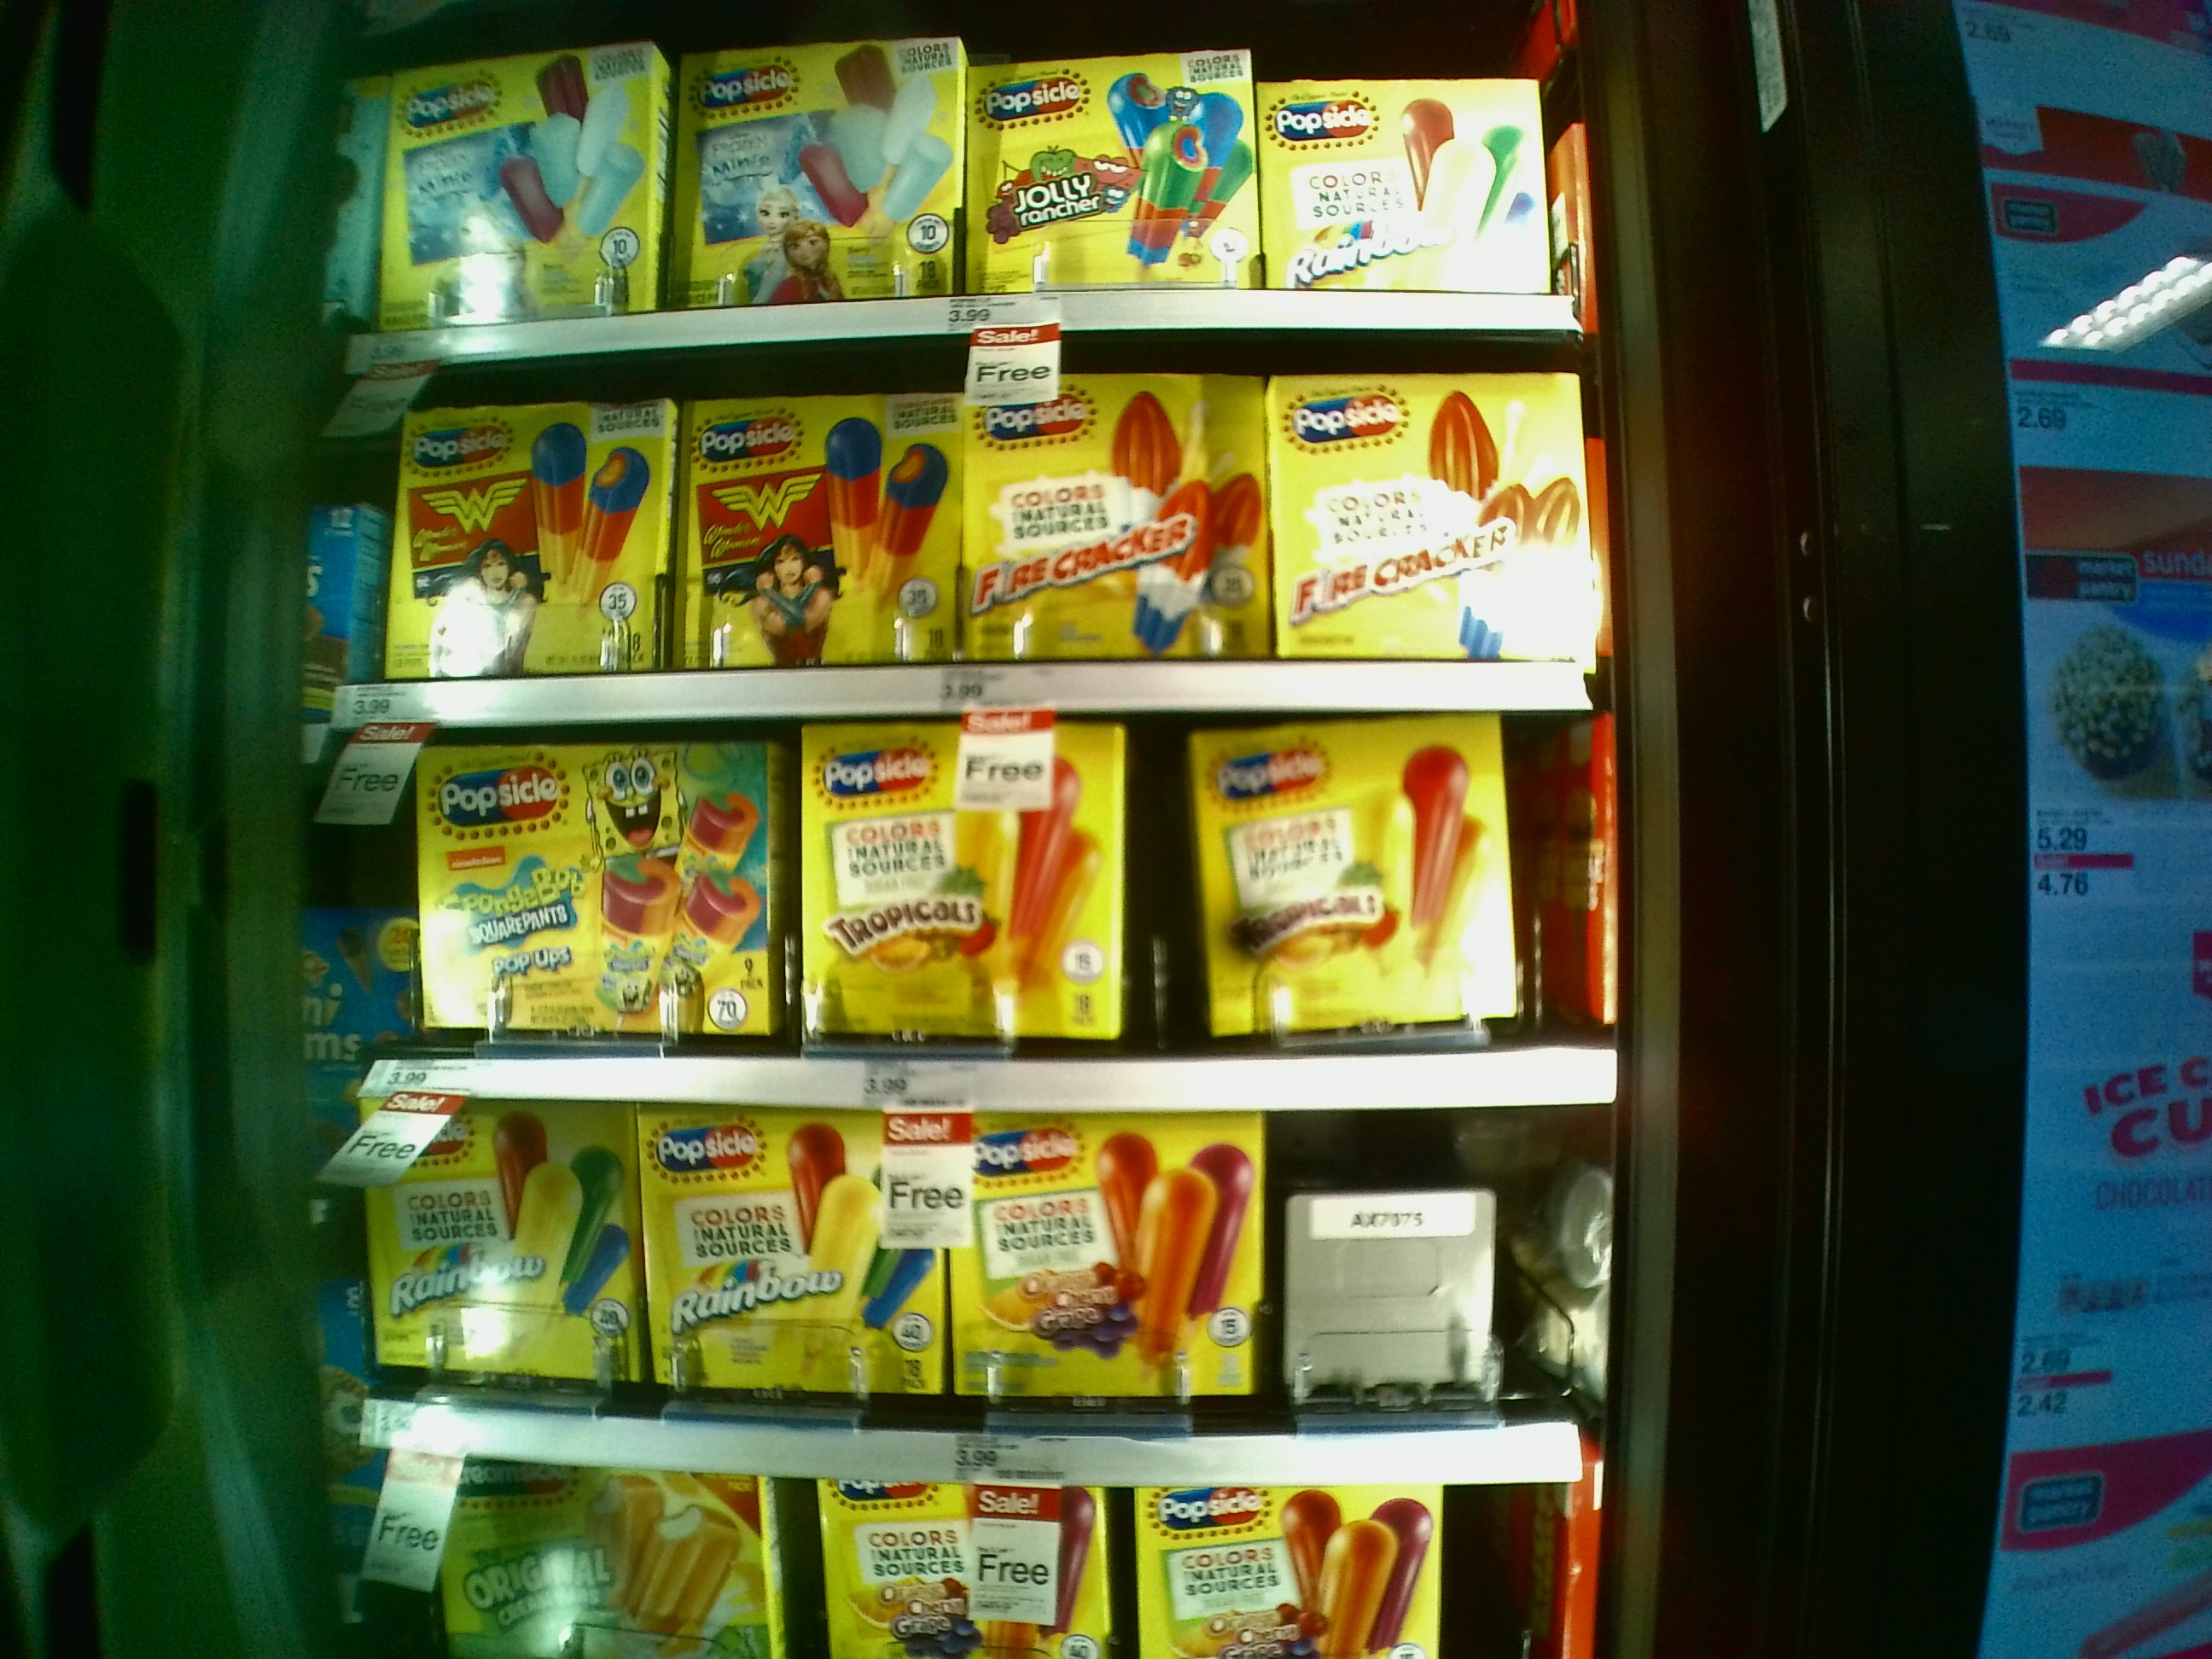shelf: (352, 734, 1602, 1112), (362, 1101, 1595, 1485), (357, 369, 1594, 711), (362, 9, 1575, 349)
